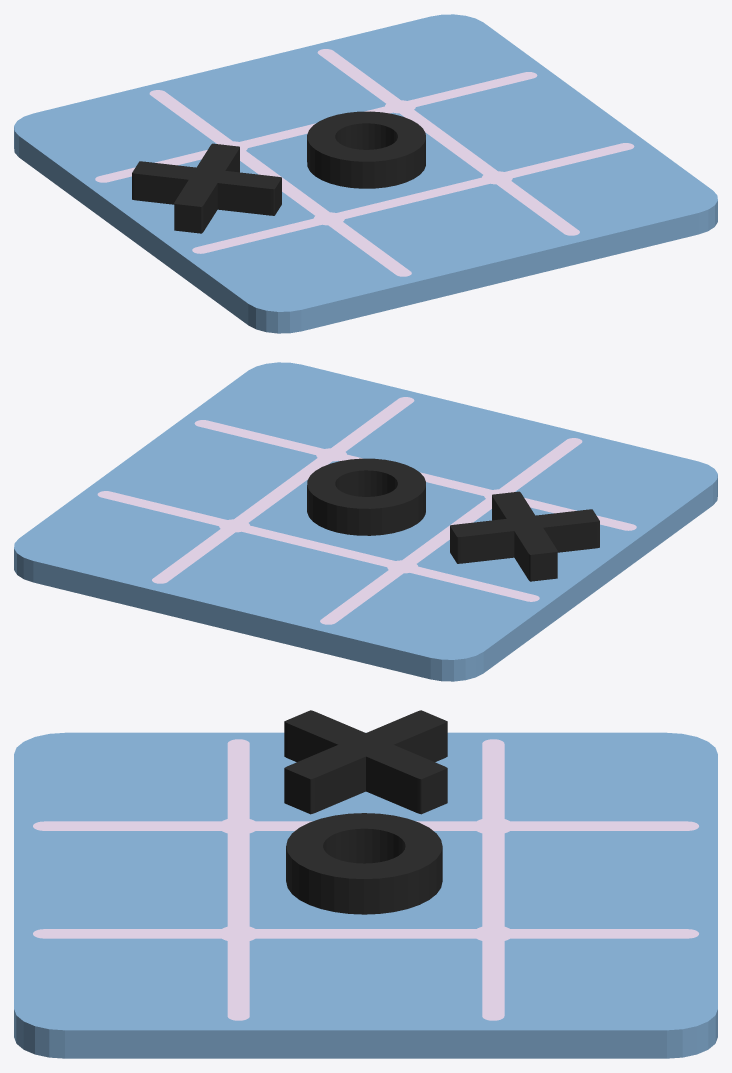
File: TicTacToeAssets.fbx
3 views of the same model, one above another, from view 1: azimuth 30°, elevation 25°; view 2: azimuth 150°, elevation 25°; view 3: azimuth 270°, elevation 25° (orthographic). The views are drawn at different scales.
Visible parts, largest first — view 1: Cube, Curve, Cylinder, Cube.001; view 2: Cube, Curve, Cylinder, Cube.001; view 3: Cube, Curve, Cube.001, Cylinder.
Part boxes in pixels (x1,y1,x2,y2): Cube: [14, 14, 717, 333]; Curve: [95, 49, 634, 276]; Cylinder: [307, 111, 425, 188]; Cube.001: [132, 143, 281, 233]; Cube: [14, 362, 717, 681]; Curve: [97, 397, 636, 624]; Cylinder: [307, 458, 425, 535]; Cube.001: [450, 491, 599, 581]; Cube: [14, 732, 717, 1058]; Curve: [33, 739, 698, 1020]; Cube.001: [284, 710, 447, 814]; Cylinder: [286, 813, 442, 914].
Size of the model in its own units: 137 by 13.73 by 137.
